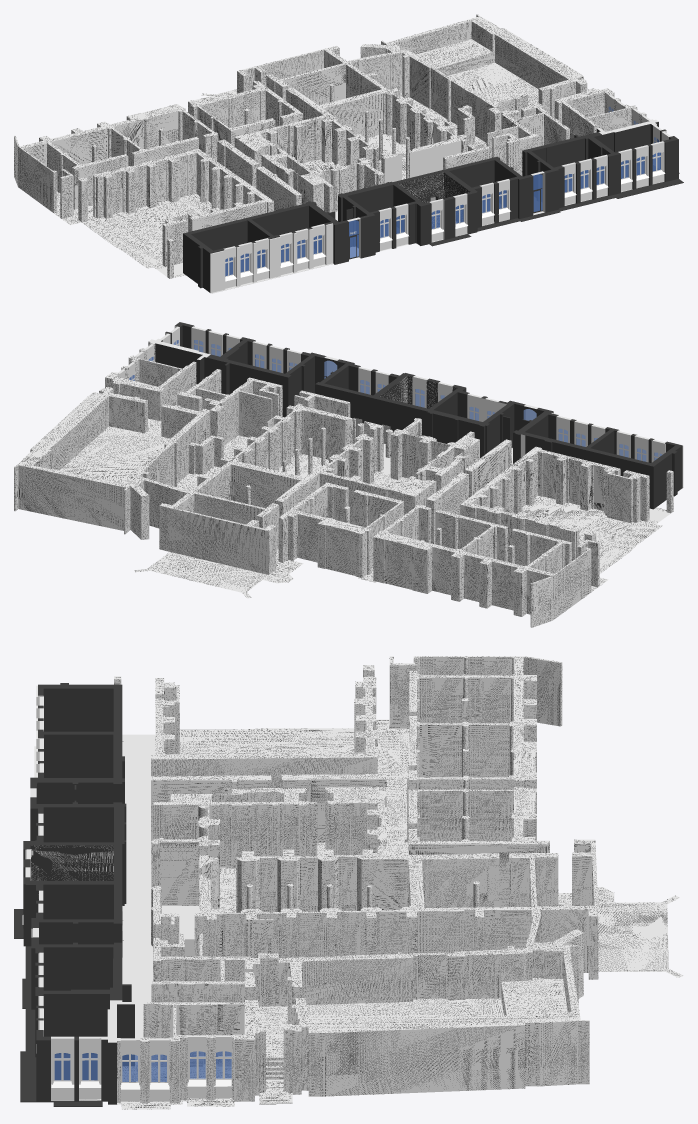
Rendered from Erdgeschoss.dae.
3 views of the same model, one above another, from view 1: azimuth 30°, elevation 25°; view 2: azimuth 150°, elevation 25°; view 3: azimuth 270°, elevation 25° (orthographic). The views are drawn at different scales.
Visible parts, largest first — view 1: skpF901 (×10); view 2: skpF901 (×8); view 3: skpF901 (×8), Component3 (×2).
Boxes of the visible parts, left/top/right/bottom form: skpF901 (×10): left=14, top=14, right=683, bottom=293; skpF901 (×8): left=14, top=322, right=683, bottom=627; skpF901 (×8): left=14, top=656, right=683, bottom=1106; Component3 (×2): left=51, top=1036, right=101, bottom=1099.
Size of the model in its own units: 2943 by 2136 by 310.
